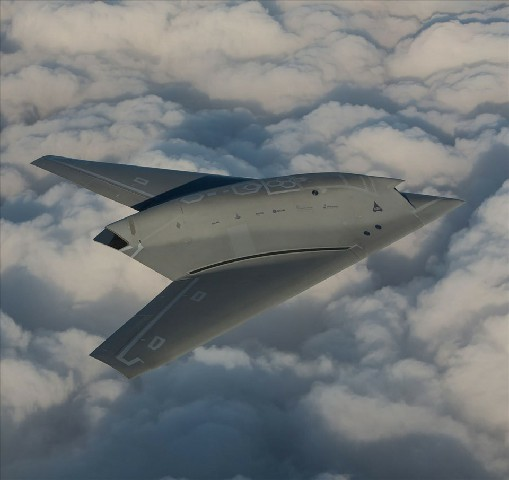maybay_khongnguoilai: (29, 151, 461, 380)
